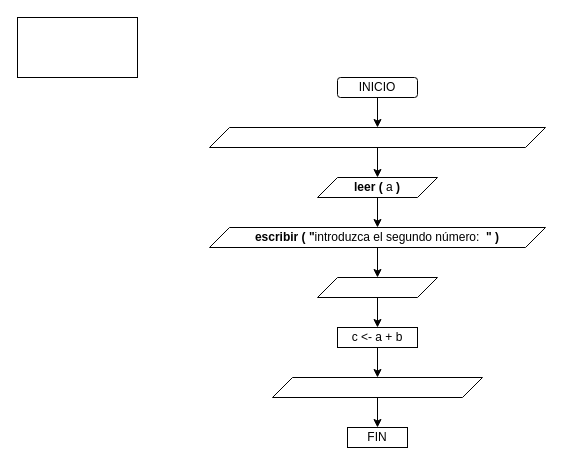
This 563x465 diagram has some shape labels left out. The centre of each missing label's shape, as x and y in pixels:
escribir ( " introduzca el primer número: " ): point (377, 137)
escribir ( " La suma es: ", c ): point (377, 387)
leer ( b ): point (377, 287)
